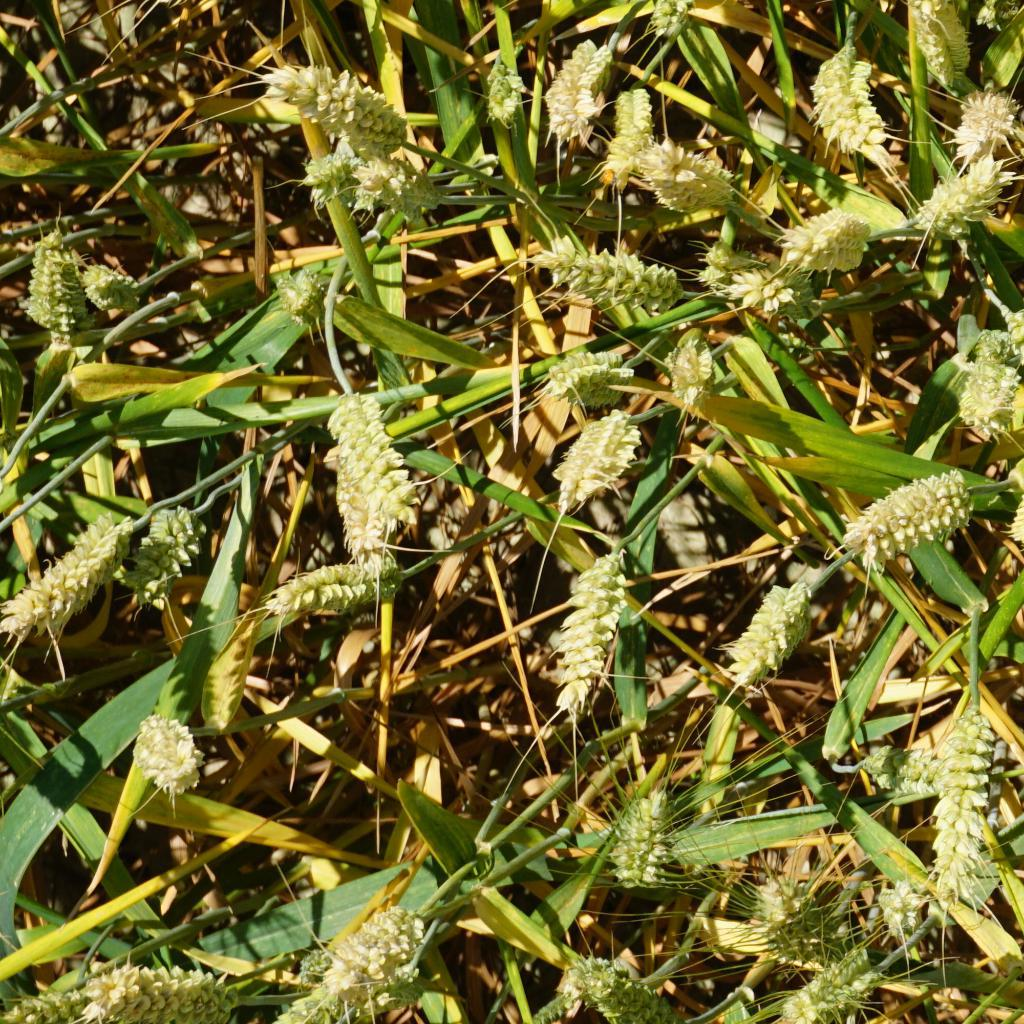0-0: (1, 507, 143, 644), (921, 701, 1005, 911), (551, 542, 644, 719), (322, 388, 422, 532), (716, 572, 824, 697), (527, 235, 681, 313), (263, 66, 412, 146), (545, 404, 646, 517), (81, 957, 251, 1024), (838, 469, 961, 560), (119, 500, 209, 615), (610, 780, 683, 888), (819, 51, 892, 158), (271, 550, 401, 607), (955, 314, 1018, 431), (749, 860, 821, 958), (327, 914, 421, 989), (698, 252, 803, 317), (918, 165, 1024, 227), (17, 240, 82, 340), (538, 39, 610, 128), (796, 947, 877, 1024), (131, 714, 206, 796), (859, 736, 947, 804), (651, 143, 732, 216), (597, 90, 656, 187), (781, 205, 872, 265), (324, 459, 380, 555), (914, 0, 982, 74), (941, 83, 1014, 151), (581, 969, 663, 1024), (270, 268, 338, 334), (360, 167, 449, 216), (652, 326, 714, 396), (545, 349, 628, 401), (73, 257, 140, 315), (486, 67, 528, 140), (552, 952, 624, 994), (878, 875, 925, 931), (299, 156, 358, 198), (273, 989, 341, 1024), (1, 988, 86, 1016), (655, 0, 702, 40), (1003, 134, 1024, 220), (293, 943, 328, 983), (1007, 314, 1024, 386), (979, 0, 1022, 28)
